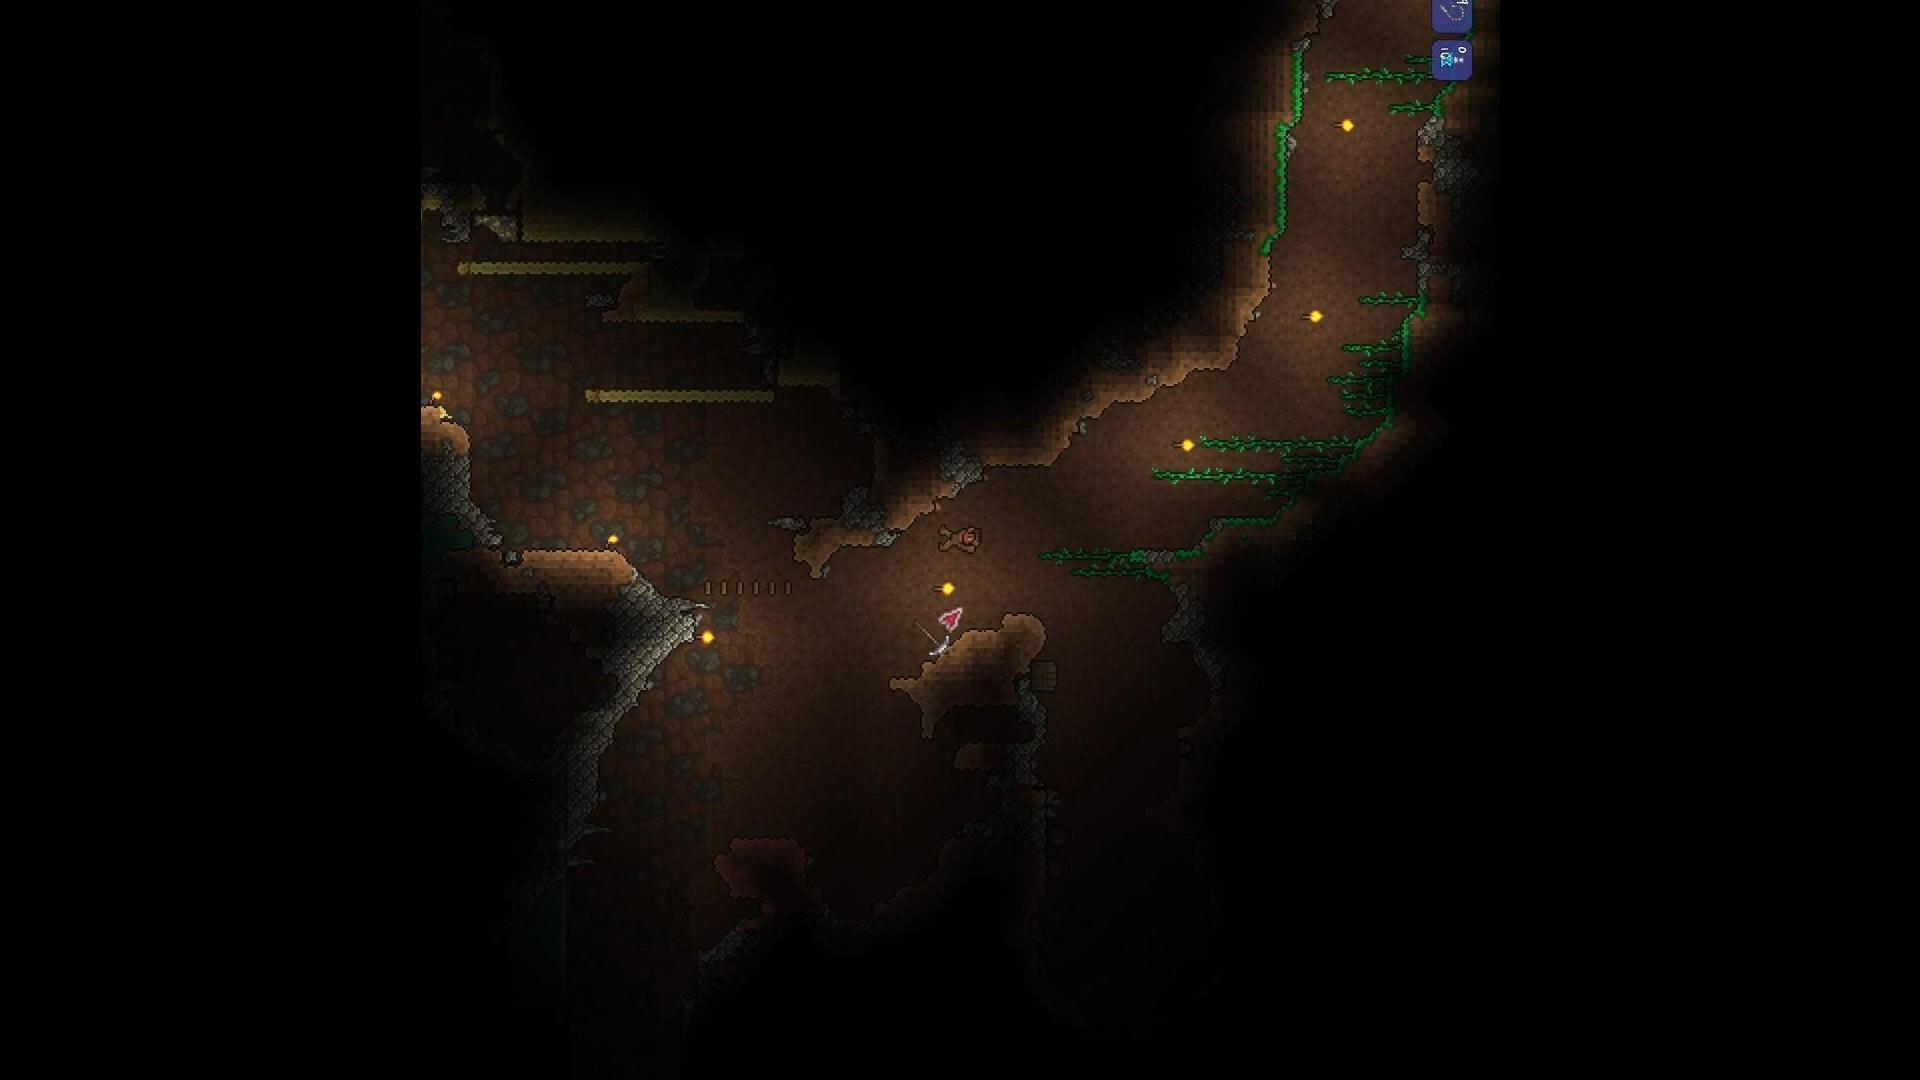chest: (1025, 655, 1063, 694)
platform: (749, 580, 761, 600), (717, 580, 729, 599), (733, 579, 745, 596), (786, 580, 795, 593), (769, 582, 777, 593)
recallP: (1437, 51, 1462, 69)
